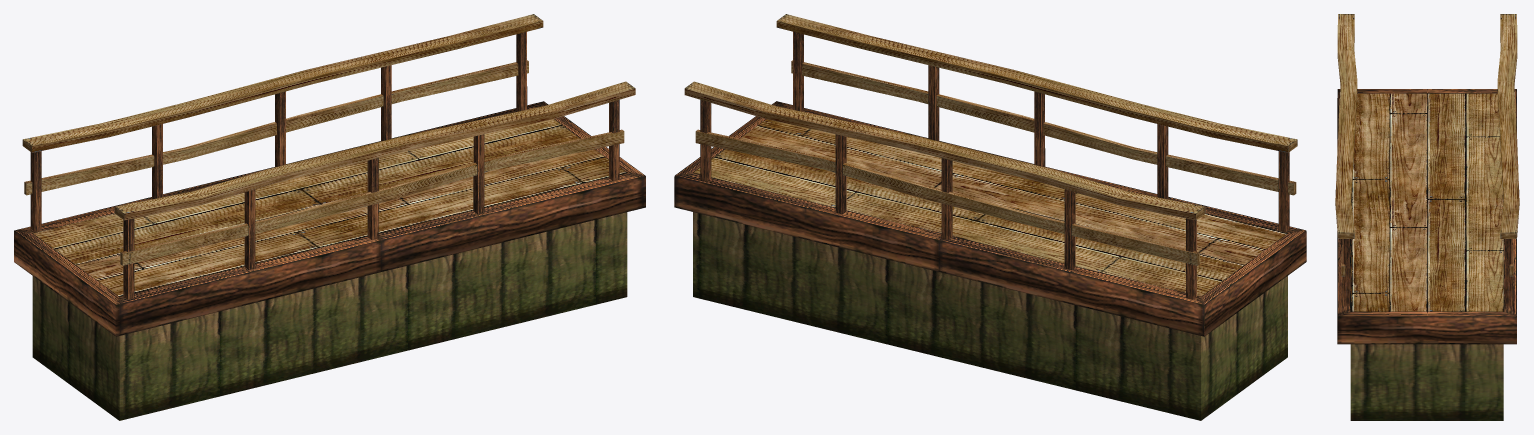
Rendered from INST_WH2_LONG_BLOCK.fbx.
3 renders of one model, left to right at view 1: azimuth 30°, elevation 25°; view 2: azimuth 150°, elevation 25°; view 3: azimuth 270°, elevation 25°, orthographic. The views are drawn at different scales.
Visible parts, largest first — view 1: INST_WH2_LONG_BLOCK; view 2: INST_WH2_LONG_BLOCK; view 3: INST_WH2_LONG_BLOCK.
Boxes of the visible parts, x1,y1,x2,y2 form: INST_WH2_LONG_BLOCK: (14,14,645,420); INST_WH2_LONG_BLOCK: (674,14,1306,420); INST_WH2_LONG_BLOCK: (1335,14,1519,420).
Size of the model in its own units: 60000 by 23135 by 20509.
4 materials, 4 textured.
